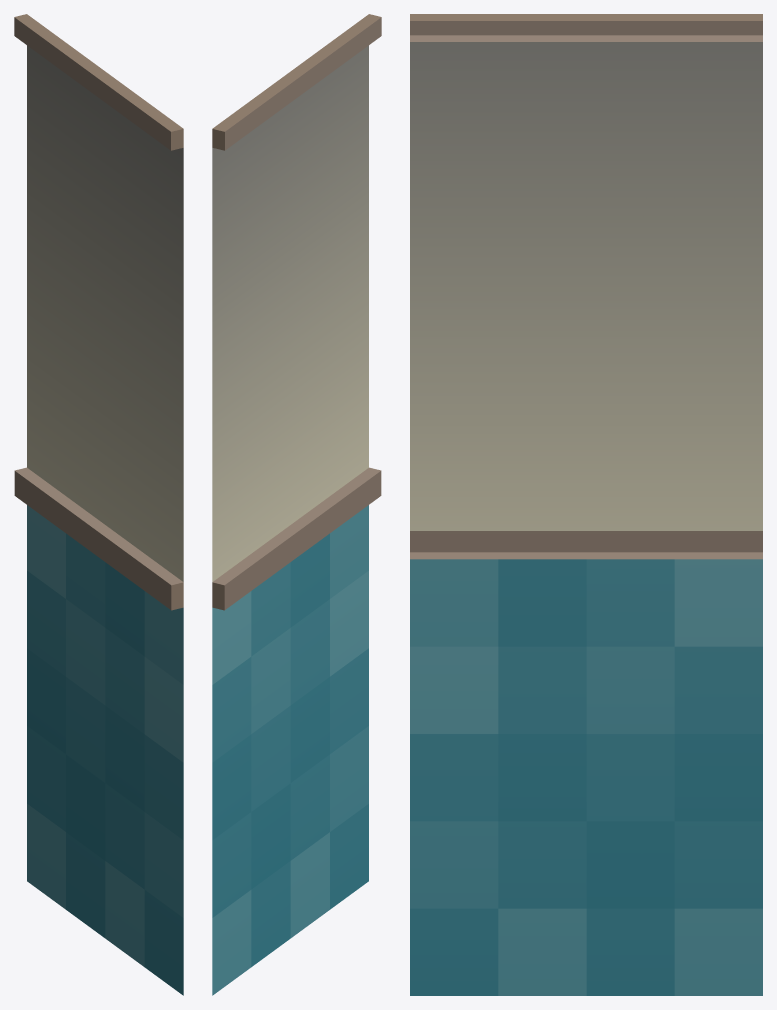
File: B01_wall_3.fbx
3 renders of one model, left to right at view 1: azimuth 30°, elevation 25°; view 2: azimuth 150°, elevation 25°; view 3: azimuth 270°, elevation 25°, orthographic. The views are drawn at different scales.
Visible parts, largest first — view 1: B01_wall_3; view 2: B01_wall_3; view 3: B01_wall_3.
Boxes of the visible parts, x1,y1,x2,y2 form: B01_wall_3: (14,14,183,995); B01_wall_3: (212,14,381,995); B01_wall_3: (410,14,762,995).
Size of the model in its own units: 4.65 by 305 by 100.
